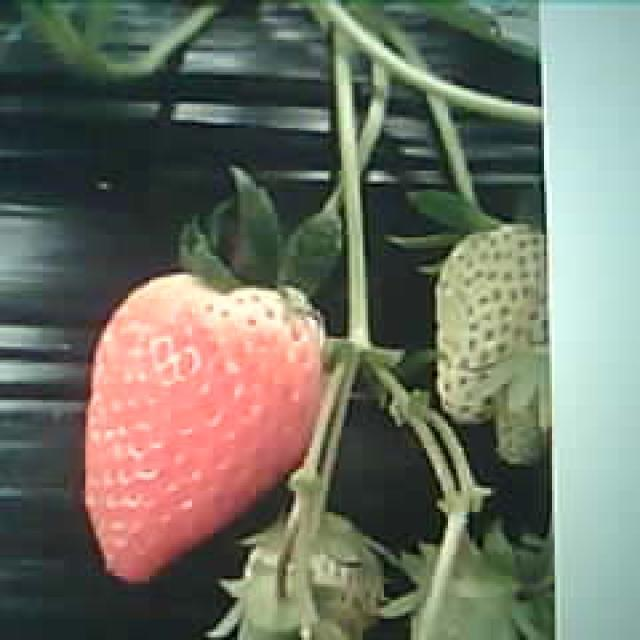strawberry: (84, 275, 326, 584), (438, 220, 550, 420), (500, 345, 552, 463)
